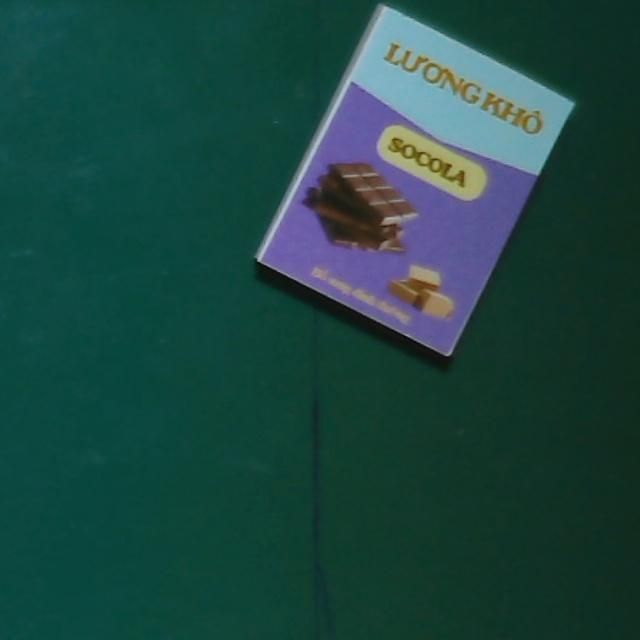socola: (253, 4, 574, 356)
